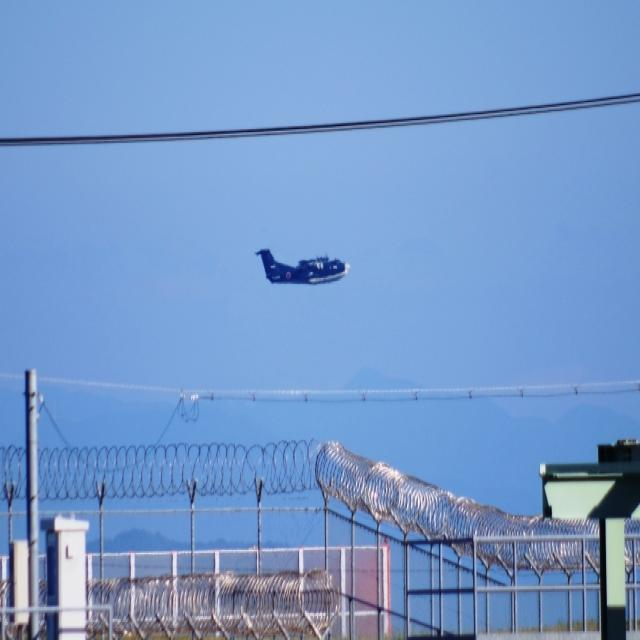MIL_Plane: (254, 247, 350, 286)
